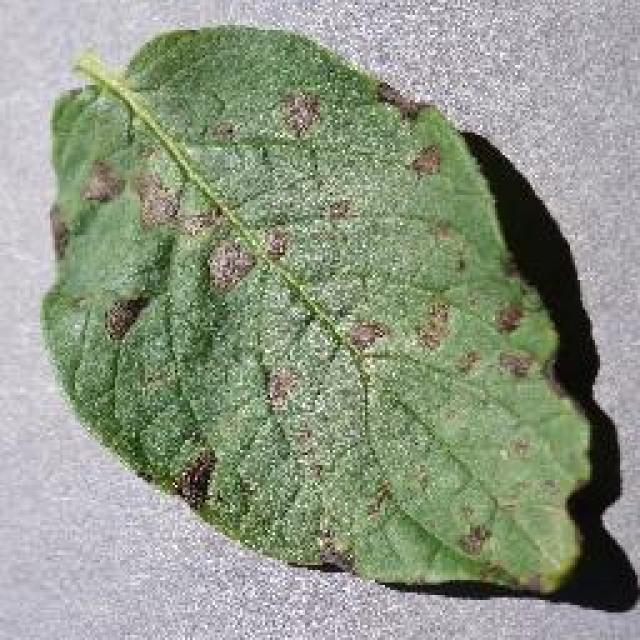Potato___Early_blight: (43, 28, 594, 597)
